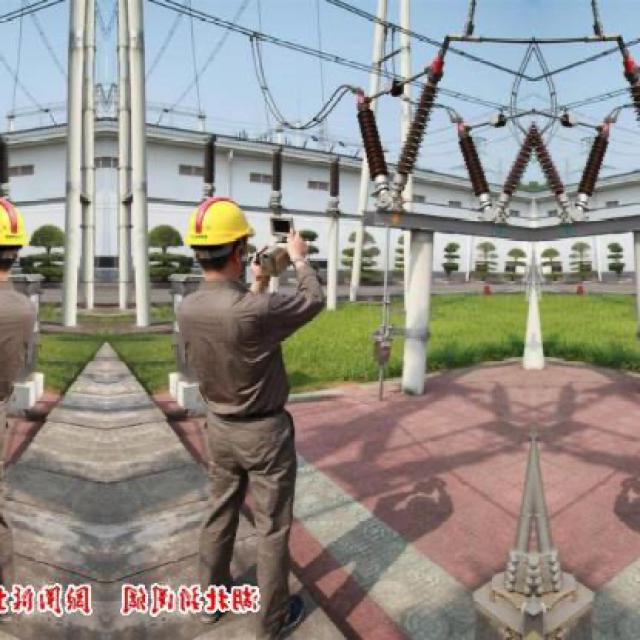helmet: (179, 188, 257, 283), (1, 188, 32, 284)
